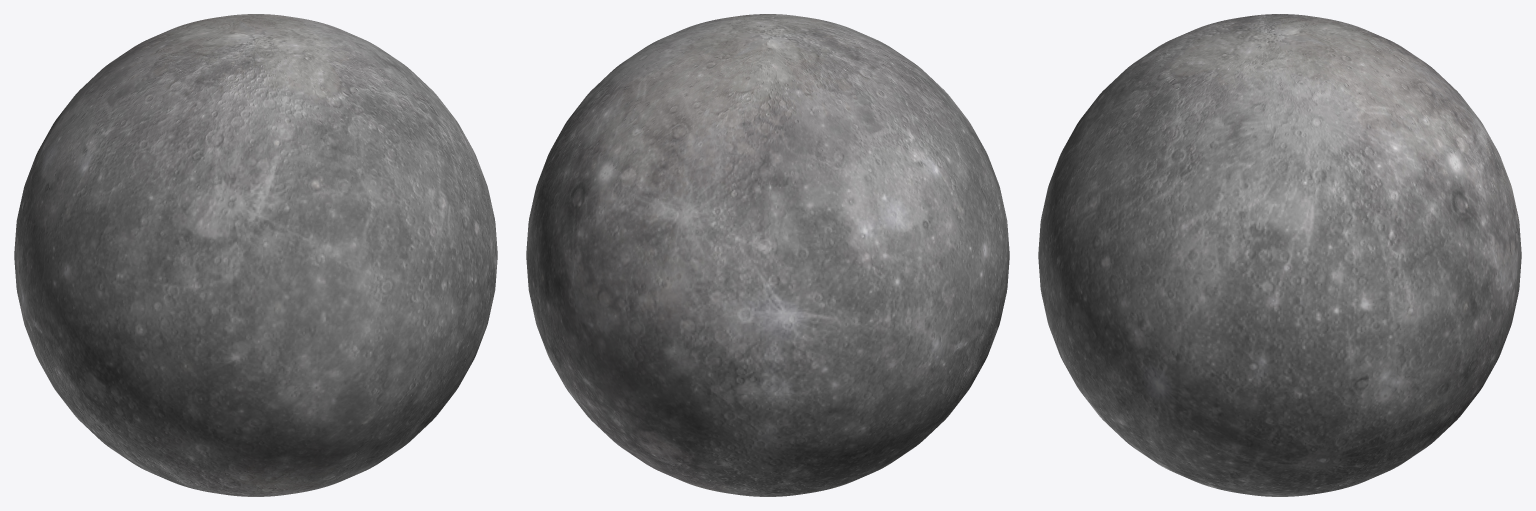
The model's file is mercury.glb.
3 renders of one model, left to right at view 1: azimuth 30°, elevation 25°; view 2: azimuth 150°, elevation 25°; view 3: azimuth 270°, elevation 25°, orthographic.
Visible parts, largest first — view 1: Sphere; view 2: Sphere; view 3: Sphere.
Boxes of the visible parts, x1,y1,x2,y2 form: Sphere: (14, 14, 497, 496); Sphere: (526, 14, 1009, 496); Sphere: (1038, 14, 1521, 496).
Size of the model in its own units: 20 by 20 by 20.
Materials: 1 (1 with a texture image).
